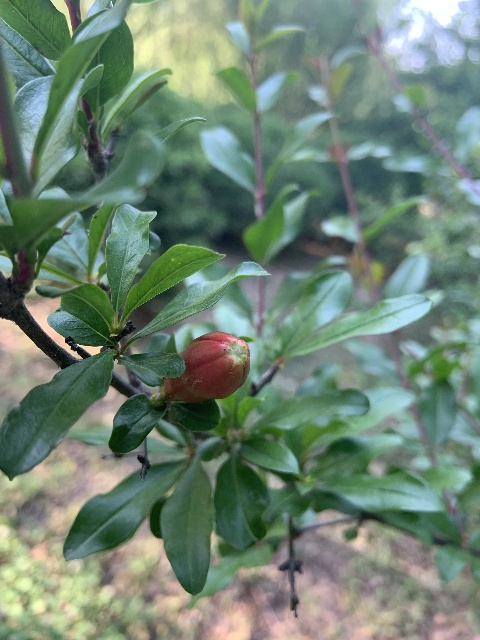bud: (163, 332, 250, 403)
